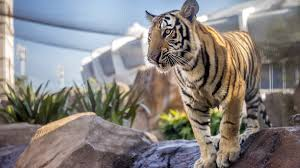tiger: (143, 1, 270, 168)
